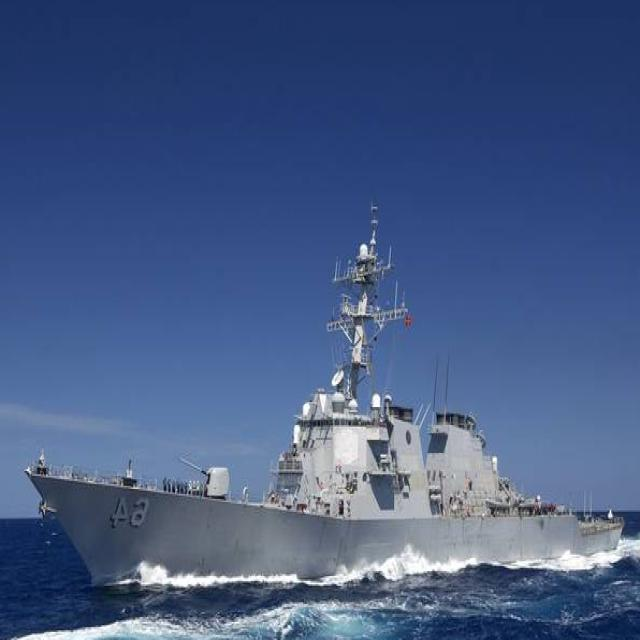navalvessels: (48, 251, 618, 617)
